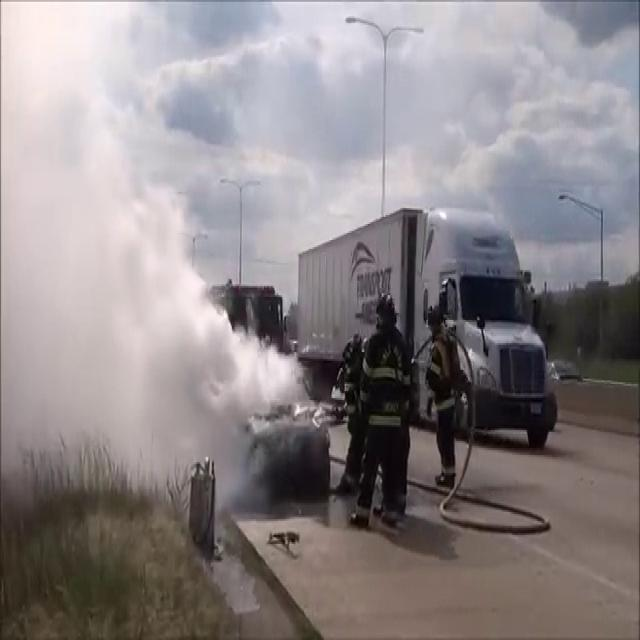Smoke: (2, 118, 318, 508)
